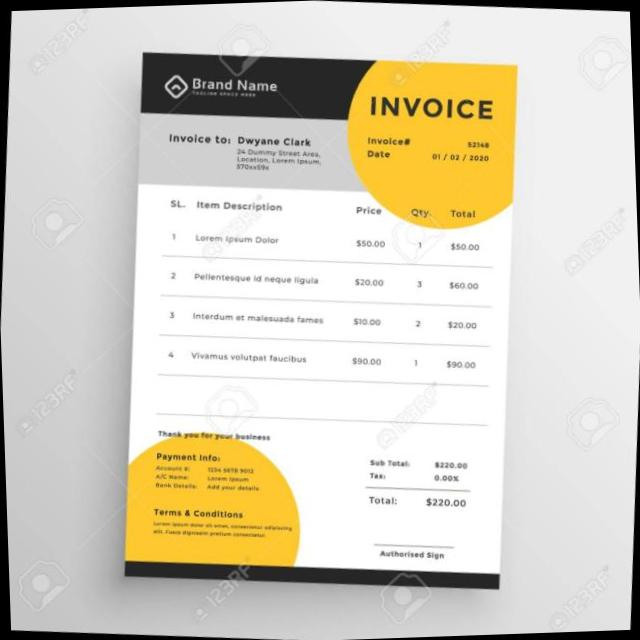customer_address: (230, 145, 325, 176)
customer_name: (236, 130, 324, 148)
invoice_date: (429, 148, 493, 169)
invoice_number: (459, 135, 495, 149)
invoice_subtotal: (430, 456, 475, 472)
invoice_total: (418, 491, 475, 514)
item_description: (186, 224, 330, 379)
item_quantity: (404, 233, 432, 376)
item_total_price: (440, 232, 493, 382)
item_unit_price: (343, 230, 394, 376)
supplier_name: (184, 72, 278, 95)
tax_rate: (429, 470, 470, 487)
